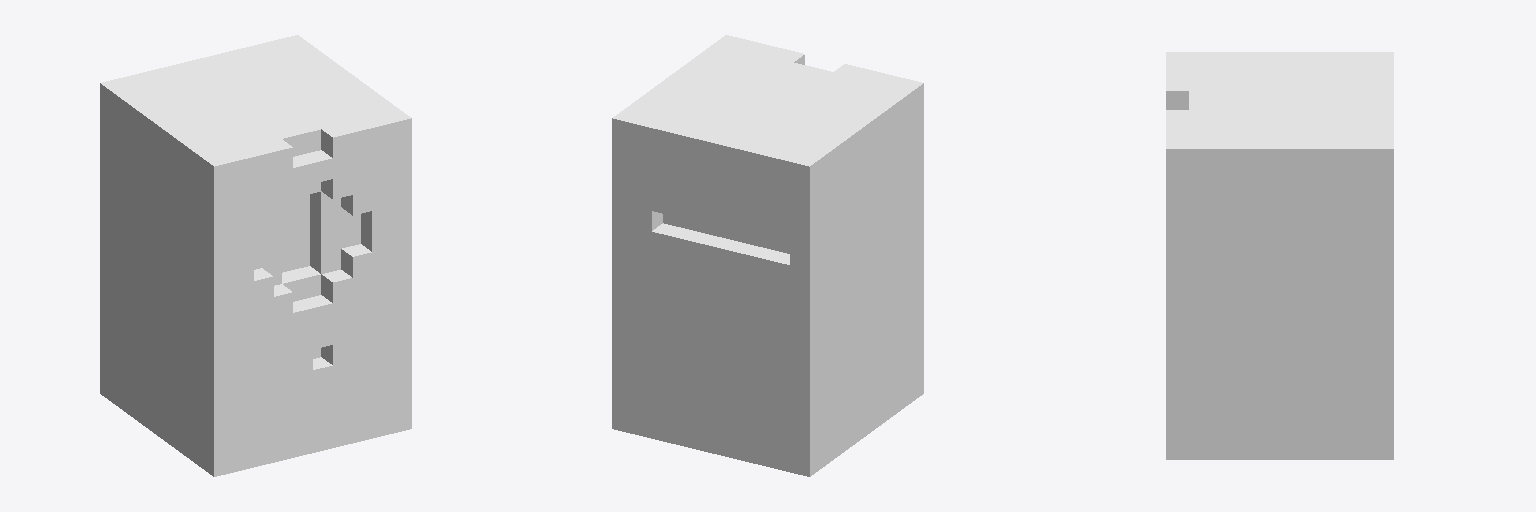
File: enceinte.obj
3 renders of one model, left to right at view 1: azimuth 30°, elevation 25°; view 2: azimuth 150°, elevation 25°; view 3: azimuth 270°, elevation 25°, orthographic.
Parts seen in each view (by area): view 1: enceinte; view 2: enceinte; view 3: enceinte.
Part boxes in pixels (bbox=[...]): enceinte: bbox=[100, 35, 411, 476]; enceinte: bbox=[612, 35, 923, 476]; enceinte: bbox=[1166, 52, 1393, 459].
Bounding box in the file's own units: 10 × 15 × 10.